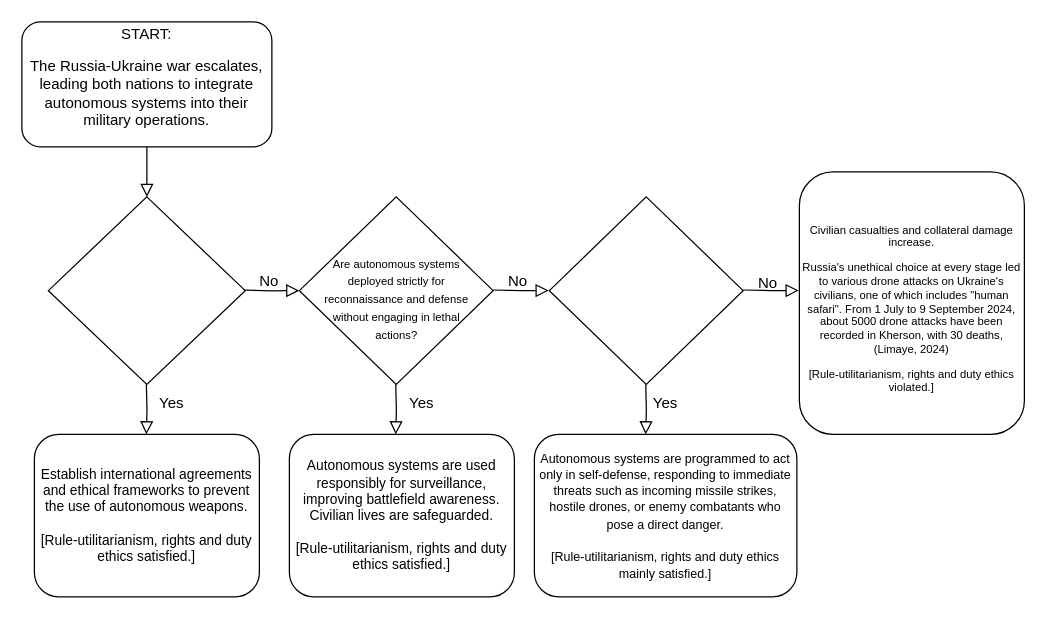
Some shapes in this 1046 by 619 pixel diagram are drawn without their labels. Each missing label, with the centre of its shape:
Are autonomous weapons making lethal decisions strictly for self-defense?: point (645, 290)
Should both countries agree not to use artificial intelligence in their warfare?: point (146, 290)
